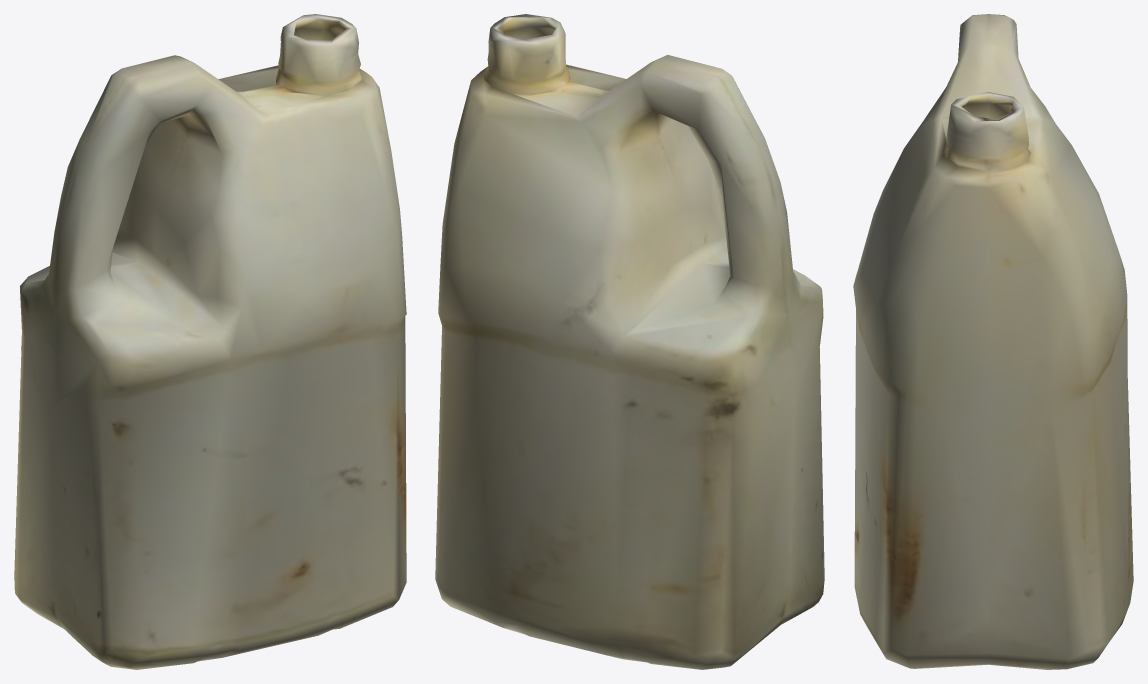
File: plastic_bottle_gallon.glb
3 renders of one model, left to right at view 1: azimuth 30°, elevation 25°; view 2: azimuth 150°, elevation 25°; view 3: azimuth 270°, elevation 25°, orthographic.
Parts seen in each view (by area): view 1: plastic_bottle_gallon; view 2: plastic_bottle_gallon; view 3: plastic_bottle_gallon.
Part boxes in pixels (<box>): plastic_bottle_gallon: <box>14,14,406,669</box>; plastic_bottle_gallon: <box>435,14,824,669</box>; plastic_bottle_gallon: <box>853,14,1133,669</box>.
Size of the model in its own units: 0.1661 by 0.2743 by 0.126.
Materials: 1 (1 with a texture image).
